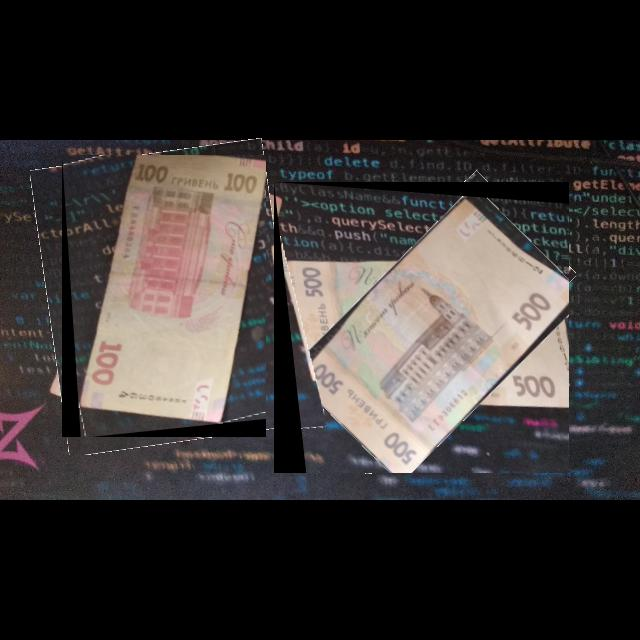100uah: (76, 155, 267, 428)
500uah: (291, 194, 570, 474)
